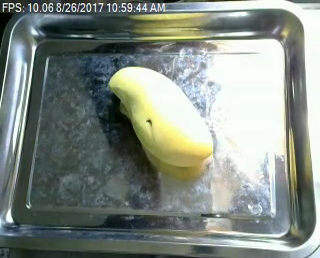Mango: (98, 63, 217, 168)
